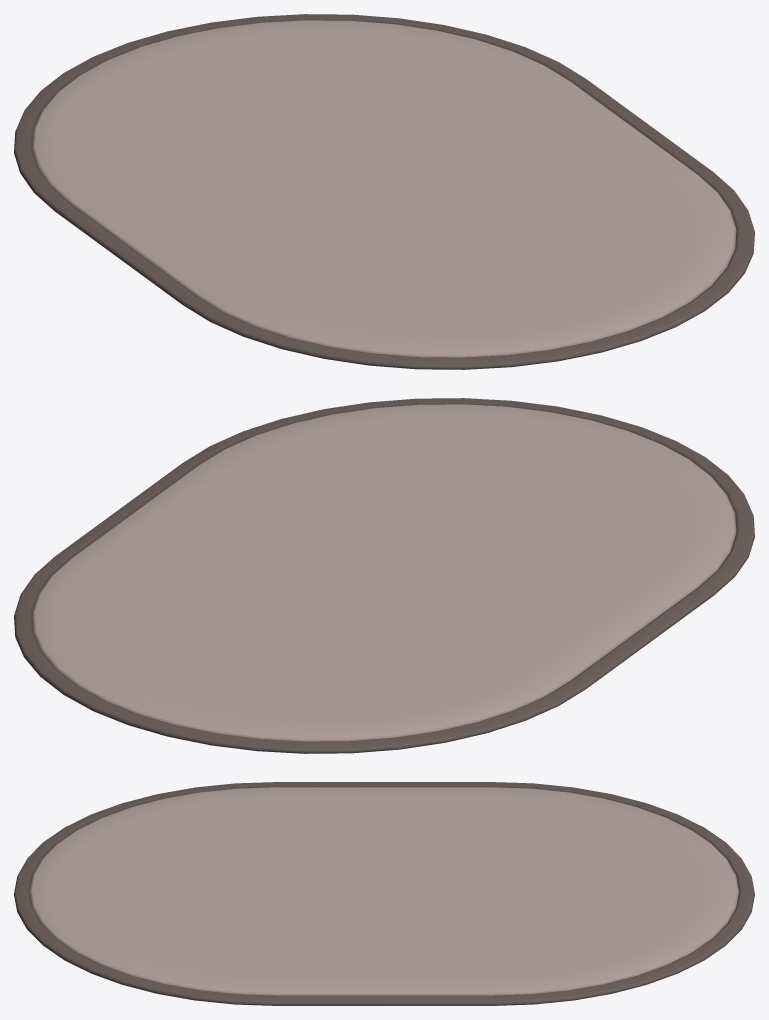
Rendered from Rug_01.fbx.
3 views of the same model, one above another, from view 1: azimuth 30°, elevation 25°; view 2: azimuth 150°, elevation 25°; view 3: azimuth 270°, elevation 25° (orthographic). The views are drawn at different scales.
Parts seen in each view (by area): view 1: Rug_01; view 2: Rug_01; view 3: Rug_01.
Part boxes in pixels (left/top/right/bottom): Rug_01: left=14, top=14, right=754, bottom=369; Rug_01: left=14, top=398, right=754, bottom=753; Rug_01: left=14, top=782, right=754, bottom=1005.
Bounding box in the file's own units: 263 × 4.03 × 373.
